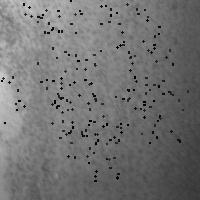pitted_surface: (4, 2, 192, 196), (127, 84, 187, 142), (62, 120, 120, 180), (37, 47, 95, 105), (100, 3, 158, 60), (115, 44, 172, 101), (51, 80, 106, 137), (23, 0, 80, 32), (0, 63, 23, 122)
